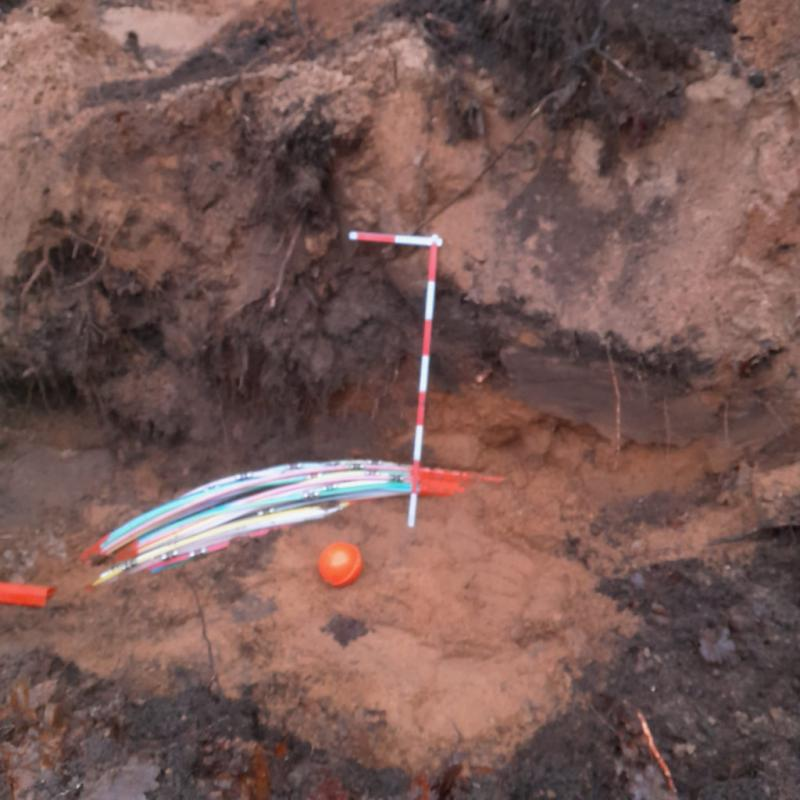Kugelmarker: (318, 542, 363, 585)
Orang-Speednetrohrchen: (0, 510, 182, 613), (298, 460, 504, 524)
